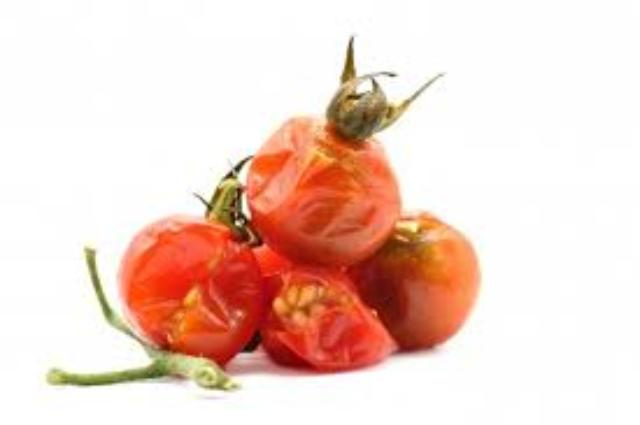defect: (248, 33, 404, 272), (111, 149, 269, 368), (353, 211, 484, 357), (253, 262, 399, 378)
